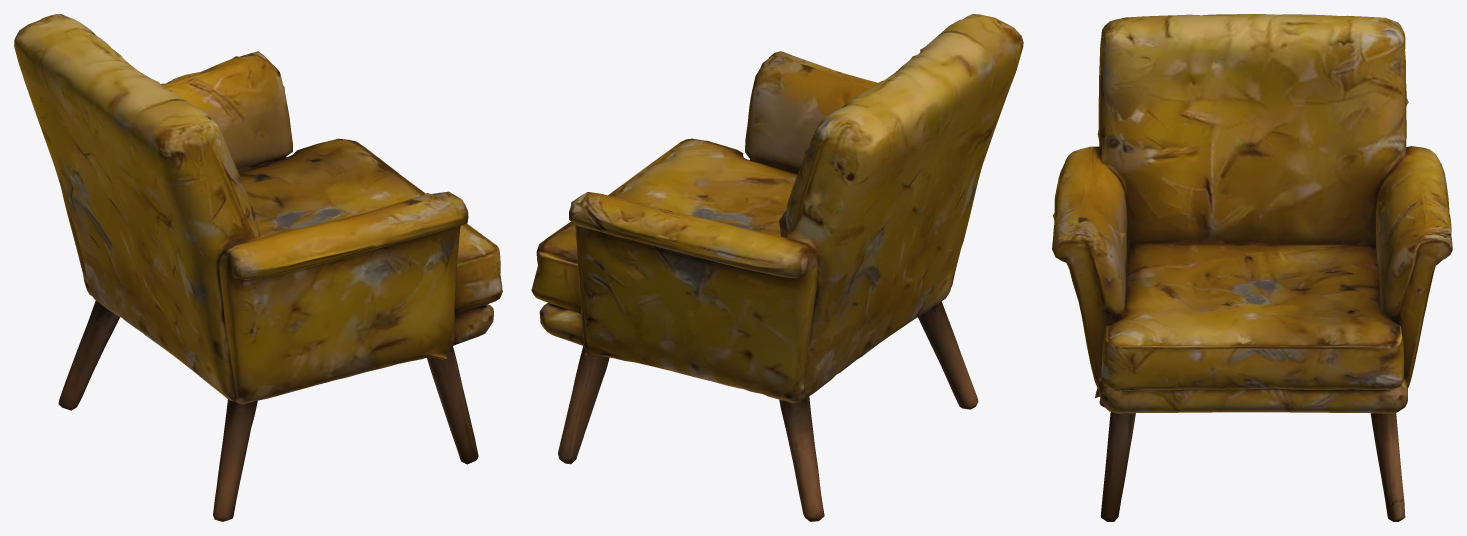
The model's file is de_armchair.glb.
3 views of the same model, side by side, from view 1: azimuth 30°, elevation 25°; view 2: azimuth 150°, elevation 25°; view 3: azimuth 270°, elevation 25° (orthographic). The views are drawn at different scales.
Parts seen in each view (by area): view 1: tripo_node_8e6fce37-8681-43a3-85a8-0c84df97a7ff; view 2: tripo_node_8e6fce37-8681-43a3-85a8-0c84df97a7ff; view 3: tripo_node_8e6fce37-8681-43a3-85a8-0c84df97a7ff.
Boxes of the visible parts, x1,y1,x2,y2 form: tripo_node_8e6fce37-8681-43a3-85a8-0c84df97a7ff: (14,14,502,521); tripo_node_8e6fce37-8681-43a3-85a8-0c84df97a7ff: (531,14,1023,521); tripo_node_8e6fce37-8681-43a3-85a8-0c84df97a7ff: (1052,14,1452,521).
Bounding box in the file's own units: 0.8988 × 1 × 0.9626.
1 material, 1 textured.
